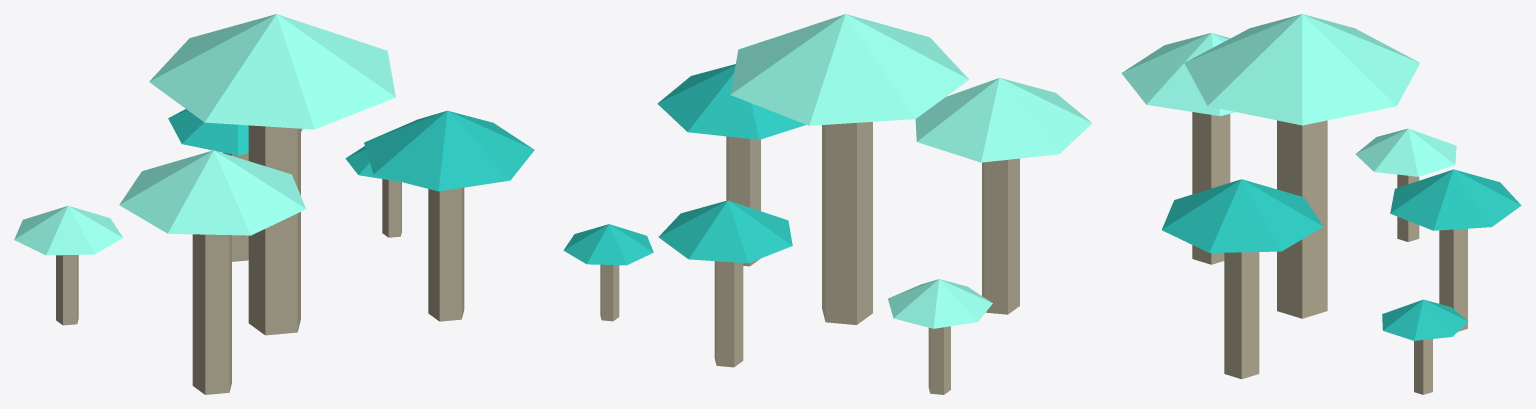
Rendered from cave_fungus.glb.
3 views of the same model, side by side, from view 1: azimuth 30°, elevation 25°; view 2: azimuth 150°, elevation 25°; view 3: azimuth 270°, elevation 25° (orthographic). The views are drawn at different scales.
Parts seen in each view (by area): view 1: cave_fungus; view 2: cave_fungus; view 3: cave_fungus.
Boxes of the visible parts, <box> form: cave_fungus: <box>14,14,534,394</box>; cave_fungus: <box>563,14,1092,394</box>; cave_fungus: <box>1121,14,1521,394</box>.
Size of the model in its own units: 0.6065 by 0.428 by 0.5288.
1 material, 1 textured.
